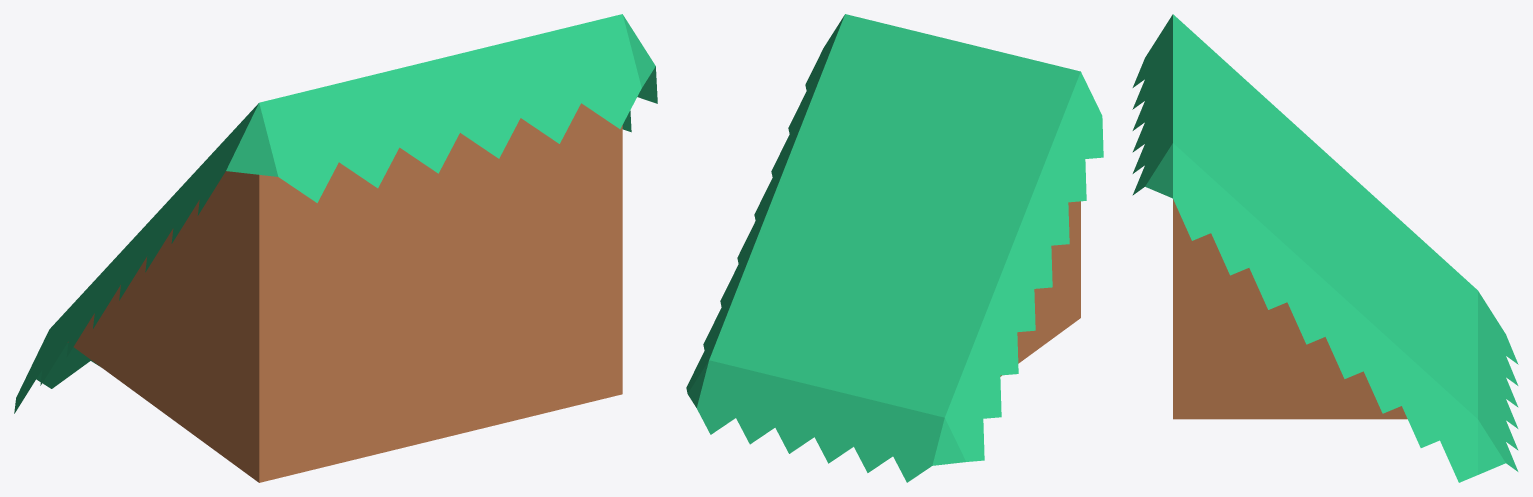
Rendered from blockSlope.glb.
3 views of the same model, side by side, from view 1: azimuth 30°, elevation 25°; view 2: azimuth 150°, elevation 25°; view 3: azimuth 270°, elevation 25° (orthographic). The views are drawn at different scales.
Visible parts, largest first — view 1: blockSlope; view 2: blockSlope; view 3: blockSlope.
Part boxes in pixels (bbox=[...]): blockSlope: bbox=[14, 14, 657, 482]; blockSlope: bbox=[686, 14, 1103, 482]; blockSlope: bbox=[1132, 14, 1518, 482].
Bounding box in the file's own units: 1.27 × 1.23 × 1.27.
